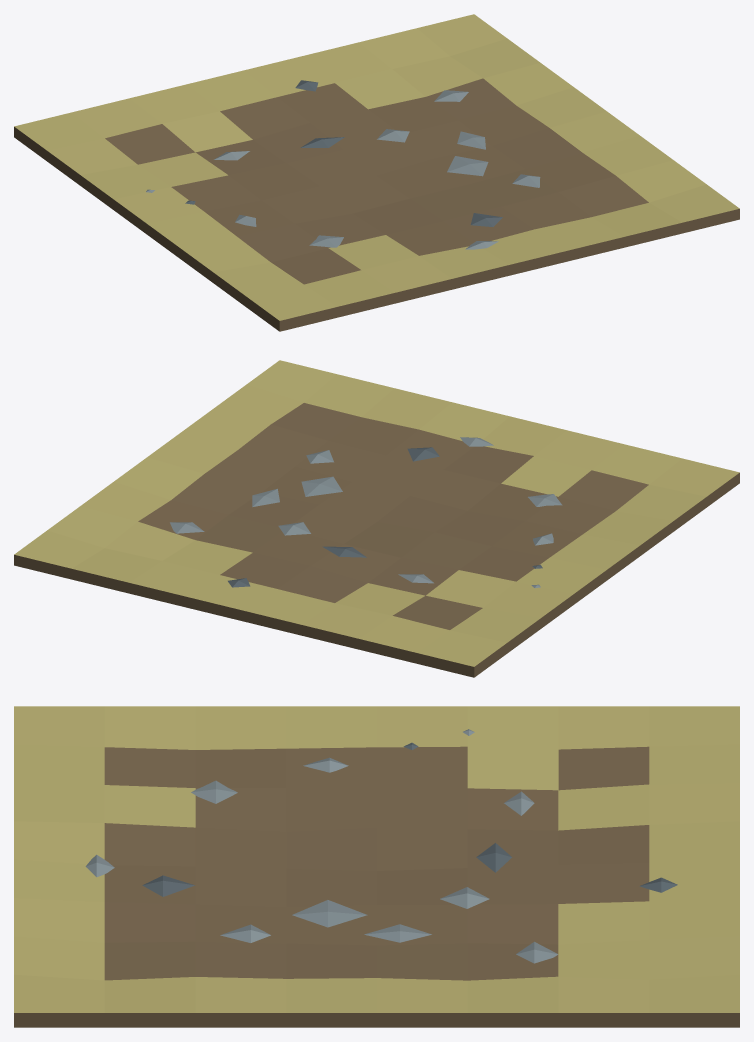
File: path_dirt.glb
3 views of the same model, one above another, from view 1: azimuth 30°, elevation 25°; view 2: azimuth 150°, elevation 25°; view 3: azimuth 270°, elevation 25° (orthographic). The views are drawn at different scales.
Parts seen in each view (by area): view 1: path_dirt.001; view 2: path_dirt.001; view 3: path_dirt.001.
Part boxes in pixels (box(x1,y1,x2,y2)): path_dirt.001: box(14, 14, 739, 331); path_dirt.001: box(14, 360, 739, 677); path_dirt.001: box(14, 706, 739, 1027).
Size of the model in its own units: 2 by 0.0484 by 2.
